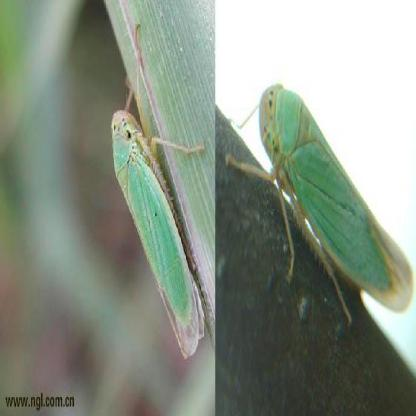Green-Leafhopper: (230, 67, 414, 321), (110, 29, 210, 364)
